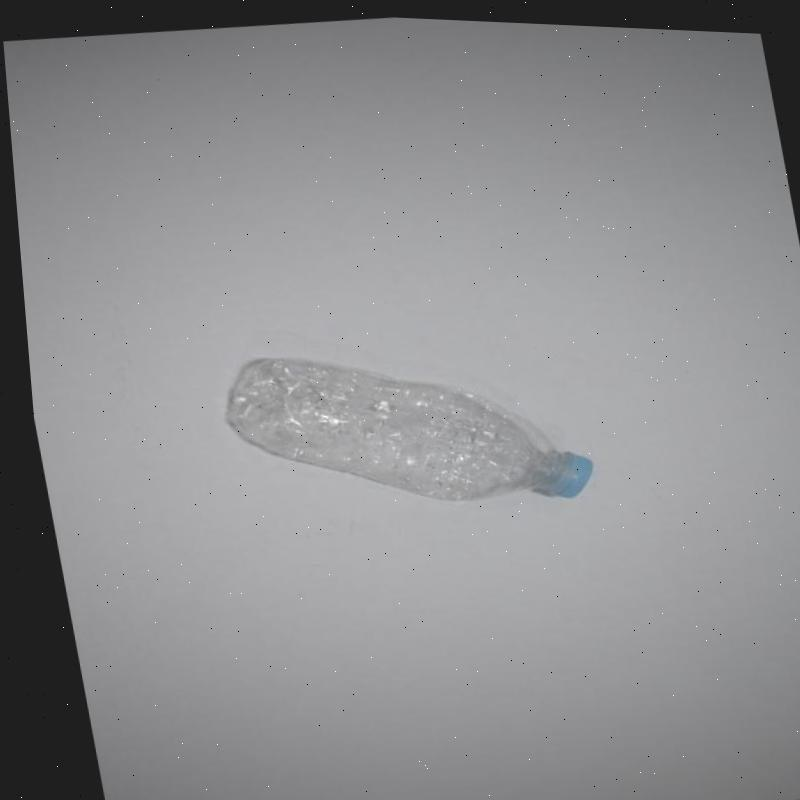botella: (204, 320, 596, 528)
